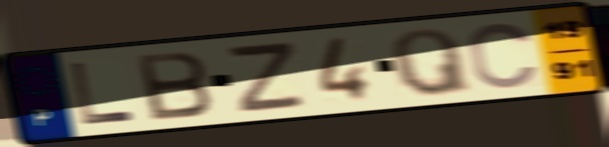4: (317, 35, 374, 105)
B: (132, 48, 216, 123)
C: (465, 20, 542, 91)
L: (66, 59, 137, 127)
Q: (387, 26, 476, 98)
Z: (226, 38, 308, 115)
